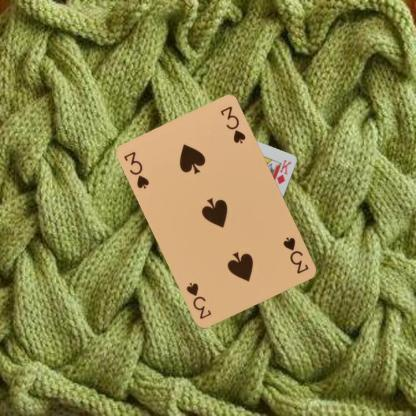3s: (121, 149, 151, 191), (281, 234, 311, 275)
